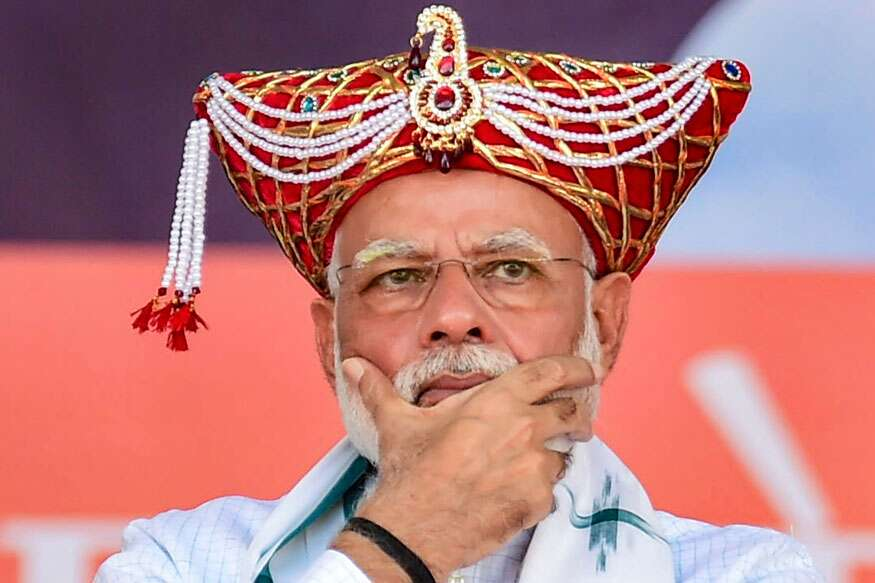modi: (142, 18, 733, 579)
